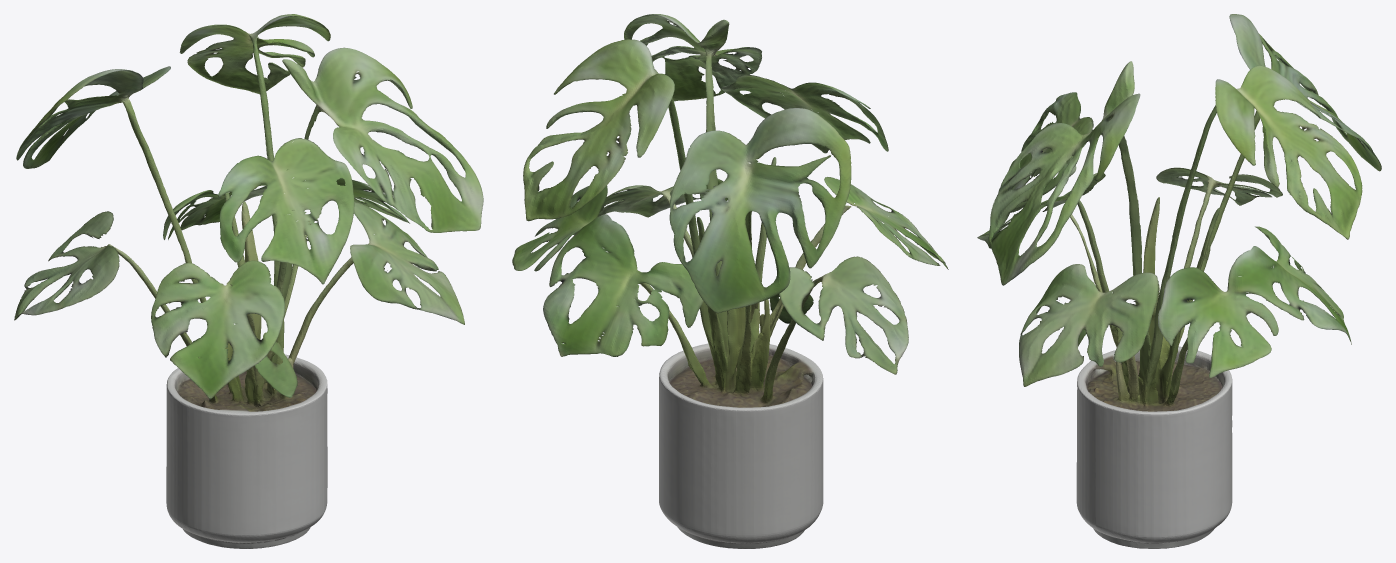
3 views of the same model, side by side, from view 1: azimuth 30°, elevation 25°; view 2: azimuth 150°, elevation 25°; view 3: azimuth 270°, elevation 25° (orthographic). The views are drawn at different scales.
Parts seen in each view (by area): view 1: geometry_0; view 2: geometry_0; view 3: geometry_0.
Boxes of the visible parts, x1,y1,x2,y2 form: geometry_0: (14, 14, 483, 548); geometry_0: (512, 14, 948, 548); geometry_0: (977, 14, 1381, 548).
Size of the model in its own units: 0.8483 by 0.9966 by 0.7704.
